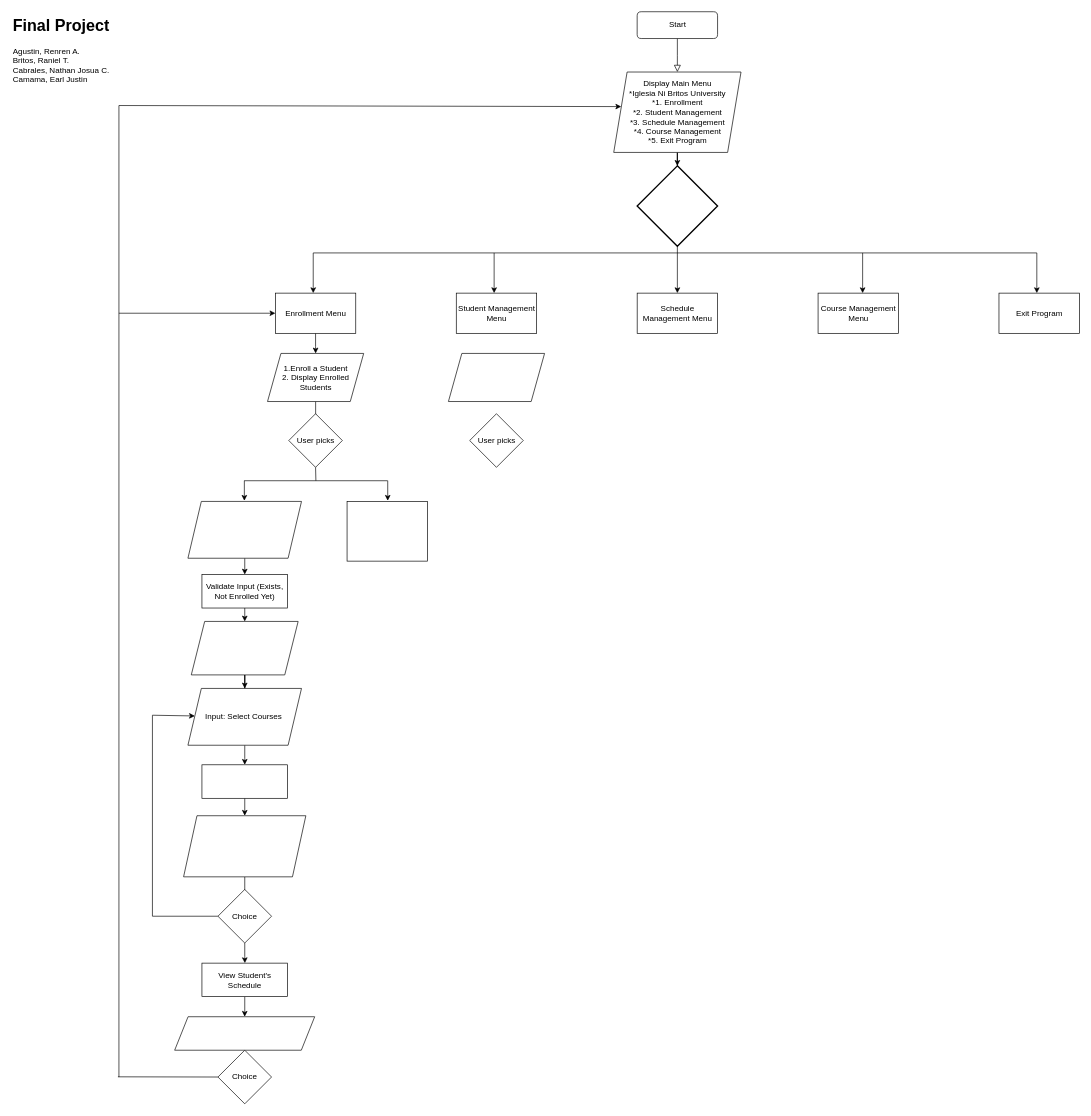
Image size: 1091x1116. Some labels were removed from this diagram. The centre of each missing label's shape, as x and y in pixels:
1.Add a Student 2. View Student Lists 3. Edit Student ID 4.Delete Student: point (496, 377)
Display Enrolled Students: point (386, 531)
Output: Confirm (Yes or No): point (244, 846)
Output: Display Available Courses: point (244, 648)
Output: Enter Student ID Input: ----: point (244, 529)
Output: Return to main menu or enrollment menu?: point (244, 1033)
User Picks from choices: point (677, 206)
Validate Enrollment (Year Level, Duplicate): point (244, 781)
